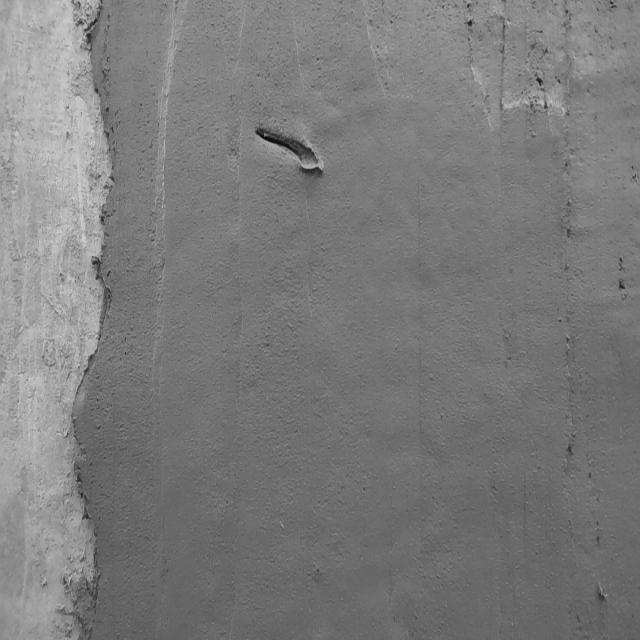trowels marks: (557, 6, 581, 558), (496, 2, 512, 145)
